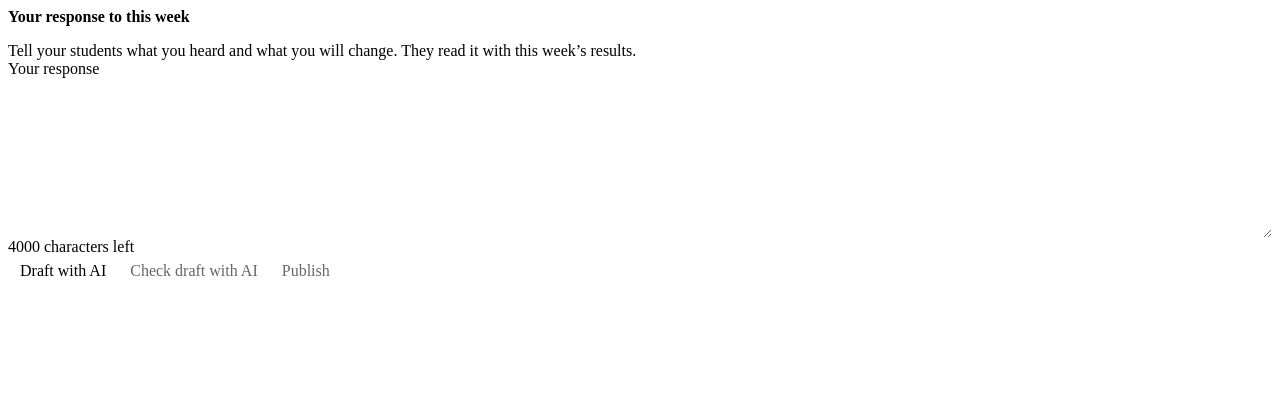
Test: the check › lists themes with counts, and a held stream’s theme without one
Step 1. Type "A draft." into the text box labelled "Your response" → (640, 158), box [8, 78, 1272, 238]
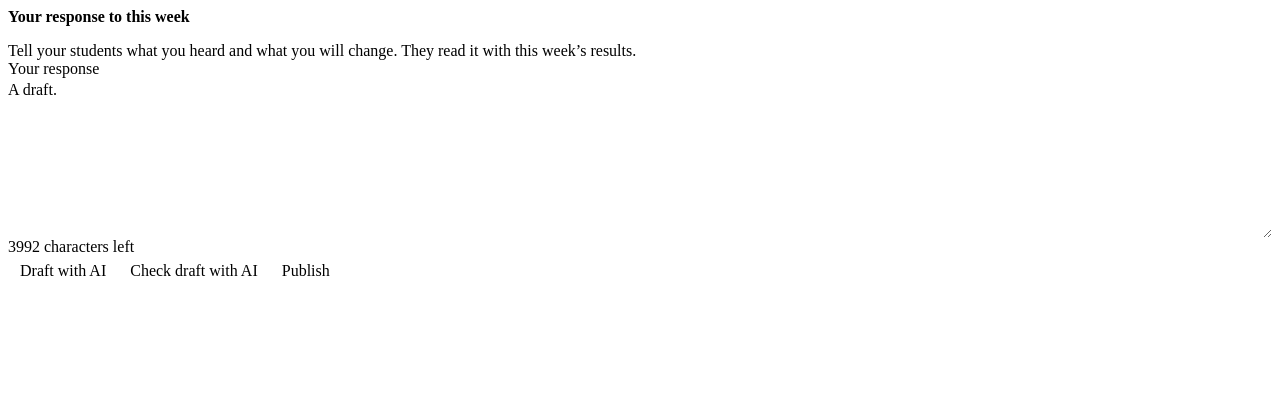
Step 2. Click the button "Check draft with AI" → (194, 271), box [118, 256, 270, 286]
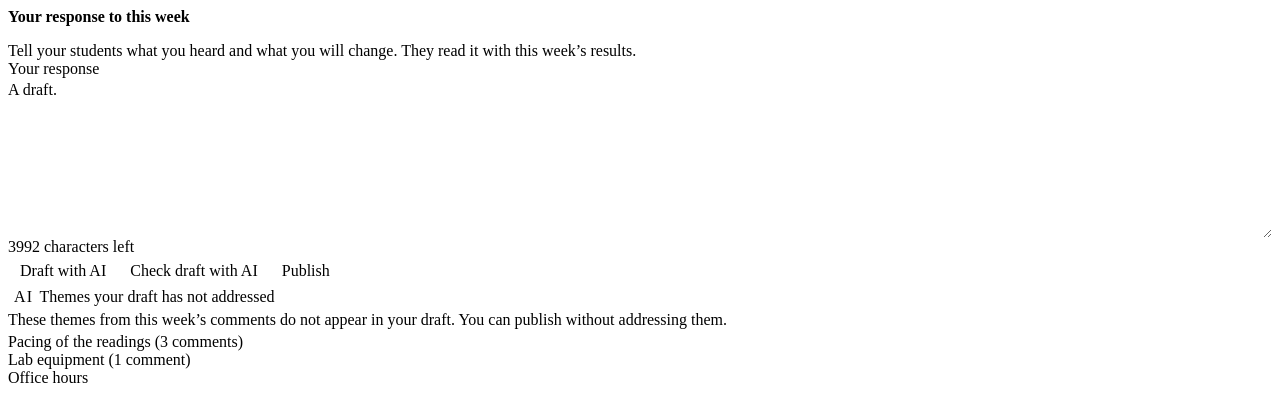
Expected: the text "AI" is shown, [14, 288, 34, 305]
Expected: the list item "Pacing of the readings (3 comments)" is shown, [8, 333, 243, 350]
Expected: the list item "Lab equipment (1 comment)" is shown, [8, 351, 191, 368]
